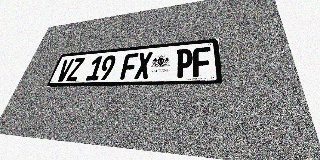1: (85, 56, 105, 81)
9: (98, 55, 117, 80)
F: (193, 47, 211, 77), (120, 53, 139, 80)
P: (175, 48, 193, 78)
V: (55, 59, 74, 82)
X: (134, 52, 153, 79)
Z: (66, 58, 85, 81)
